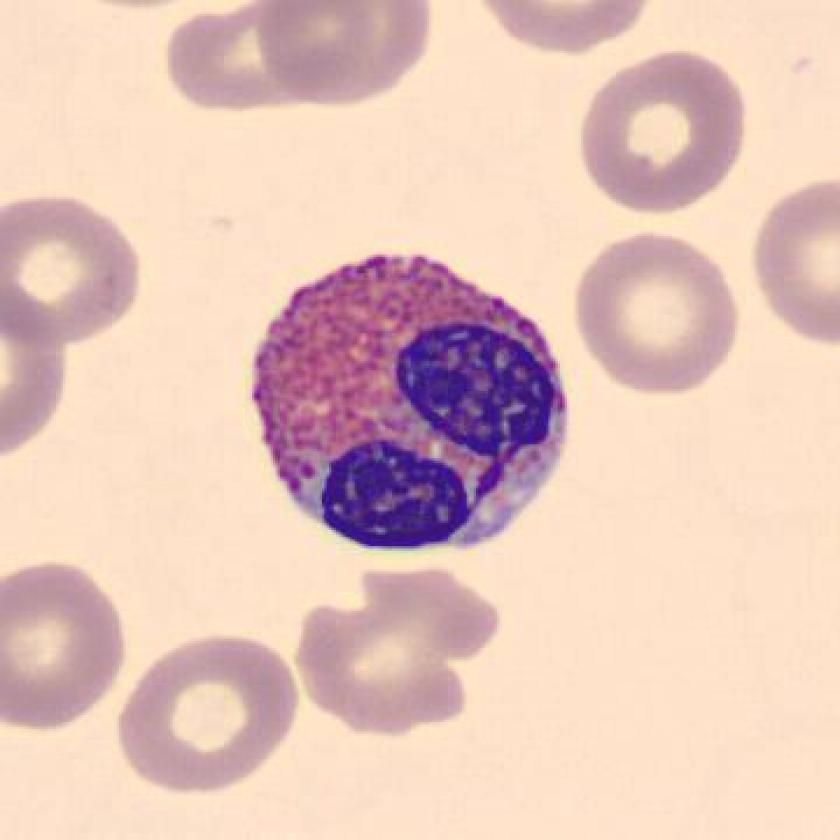eosinophil: (232, 237, 584, 566), (666, 515, 668, 517)
